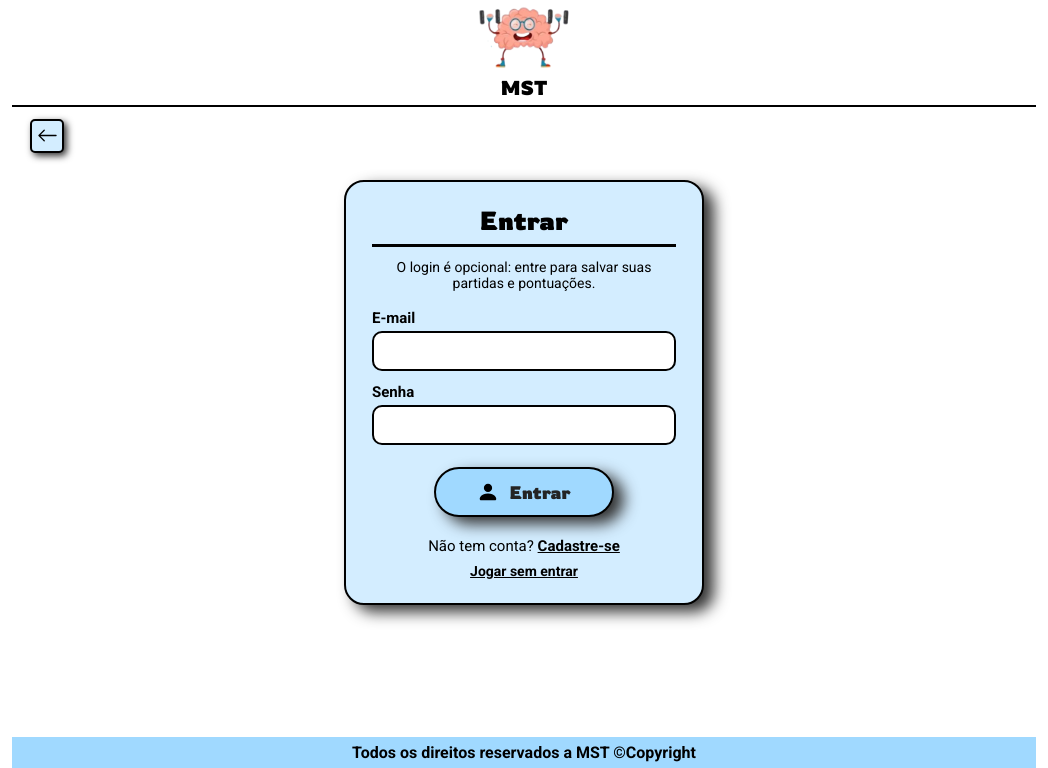
telas de Entrar e Cadastro › login válido salva o token e mostra o jogador no cabeçalho
Type "maria@mst.com" into the field labelled "E-mail".
click(524, 351); type("maria@mst.com")  # box [372,331,676,371]
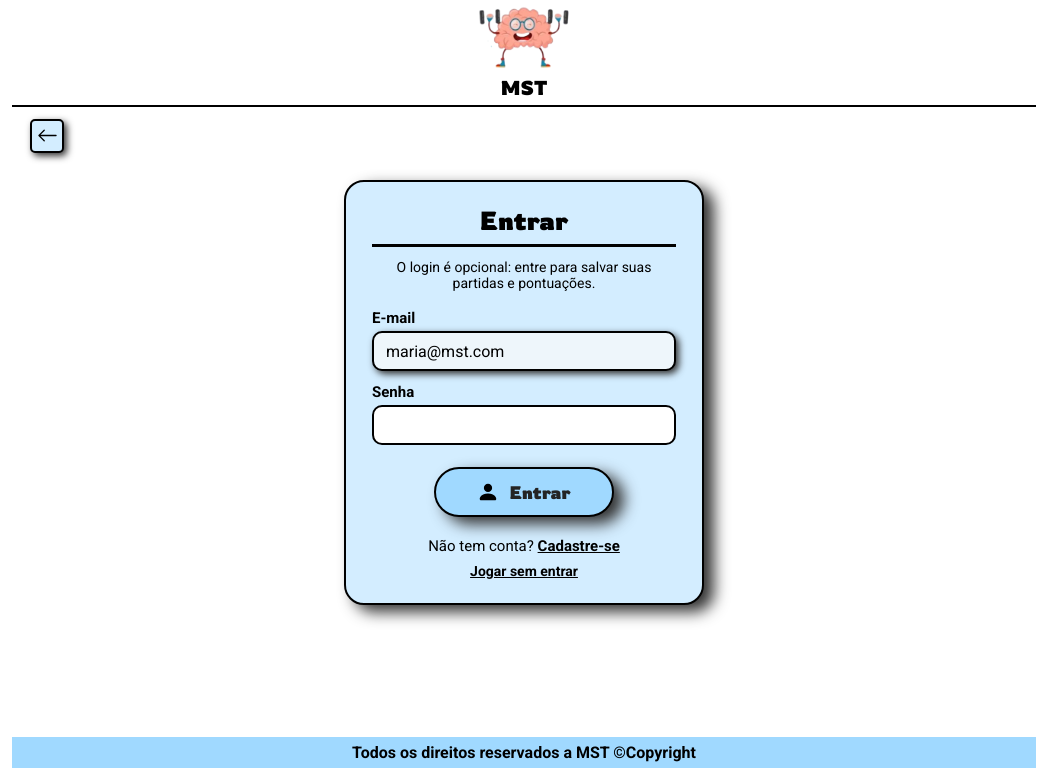
Type "segredo123" into the password field labelled "Senha".
click(524, 425); type("segredo123")  # box [372,405,676,445]
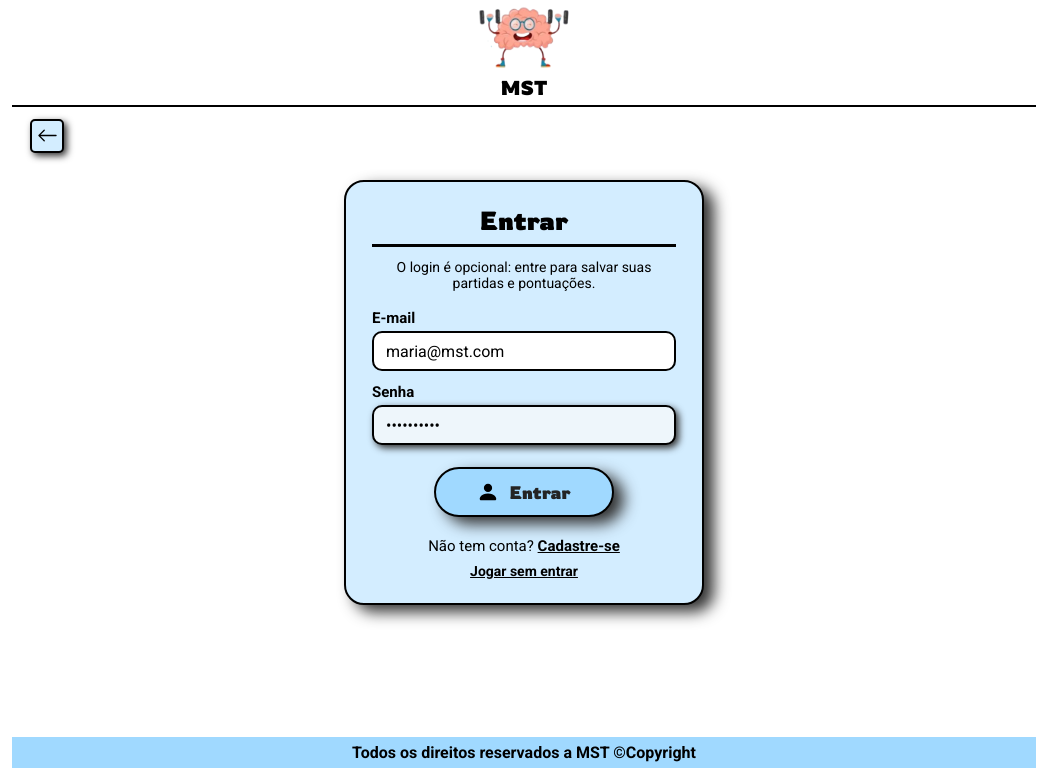
Click the button "Entrar".
click(524, 492)  # box [434,467,614,517]
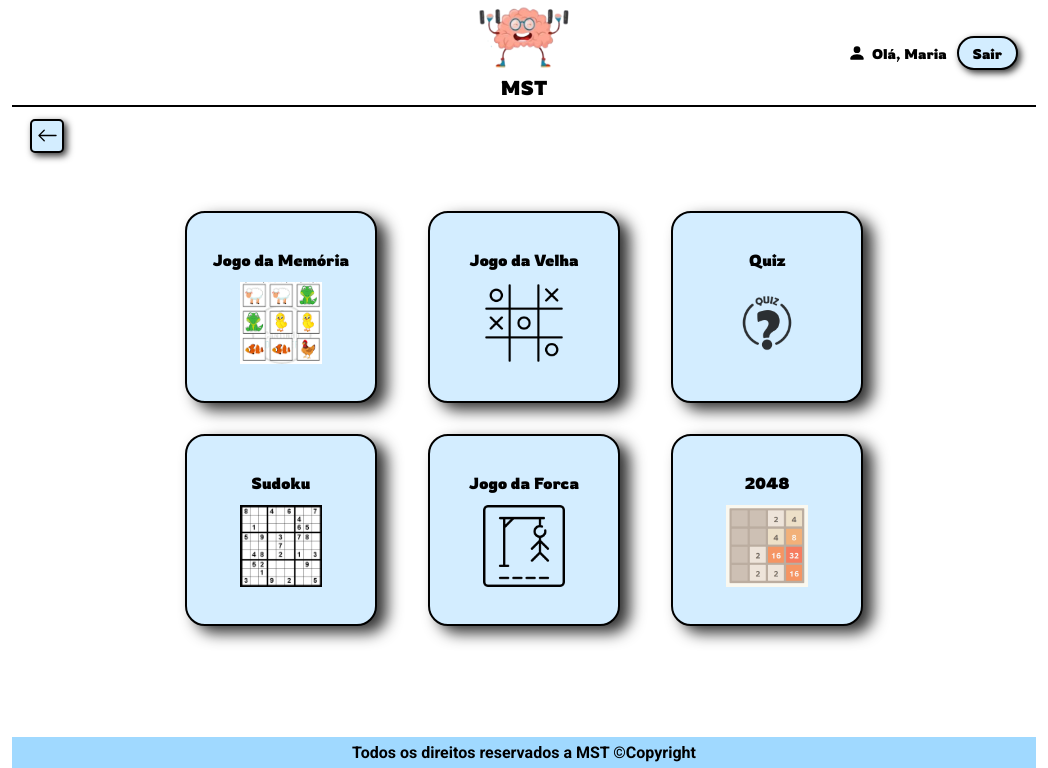
Now the text "Olá, Maria" is shown, box [848,44,946,62]
Now the link "Jogo da Velha" is shown, box [428,211,620,403]
